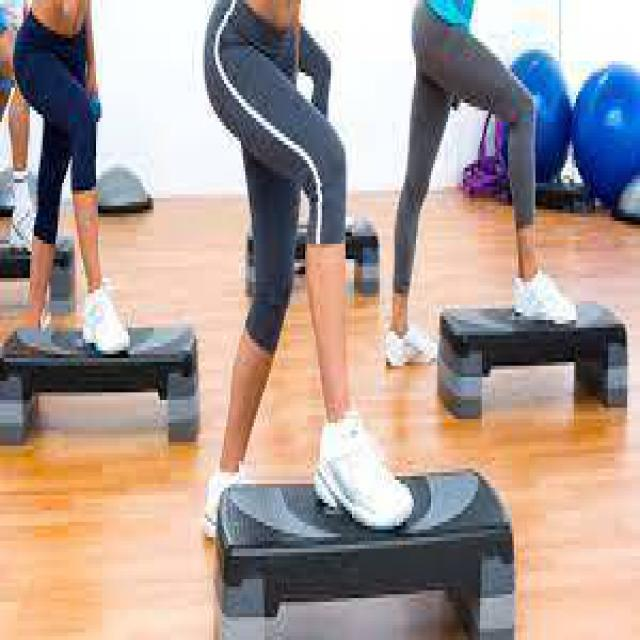Step: (196, 465, 521, 636), (424, 282, 638, 442), (0, 304, 205, 468)
